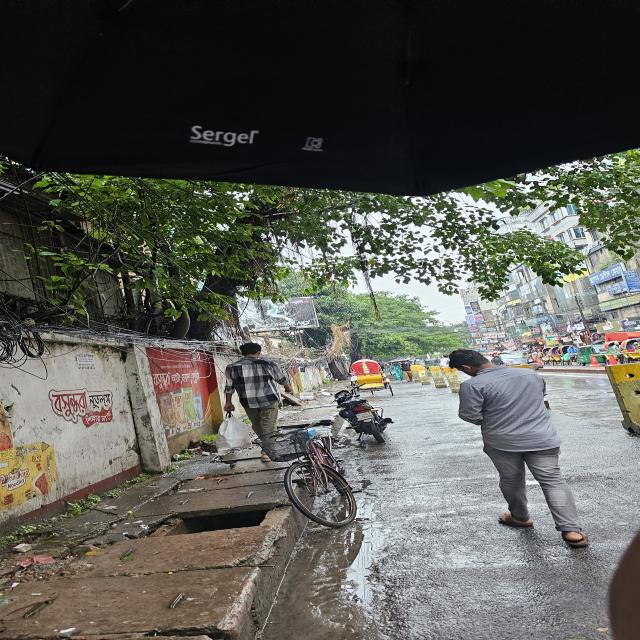drain_inlet: (142, 502, 283, 536)
